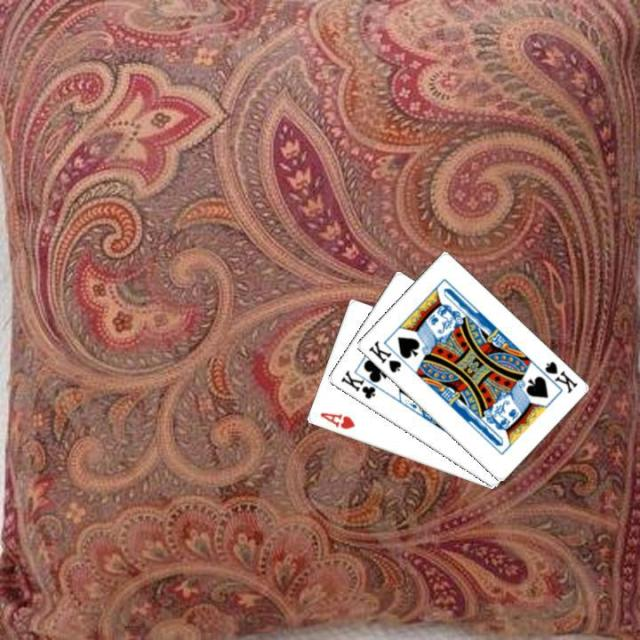AH: (316, 409, 356, 431)
KC: (337, 366, 385, 401)
KS: (533, 358, 579, 396), (364, 337, 402, 375)
